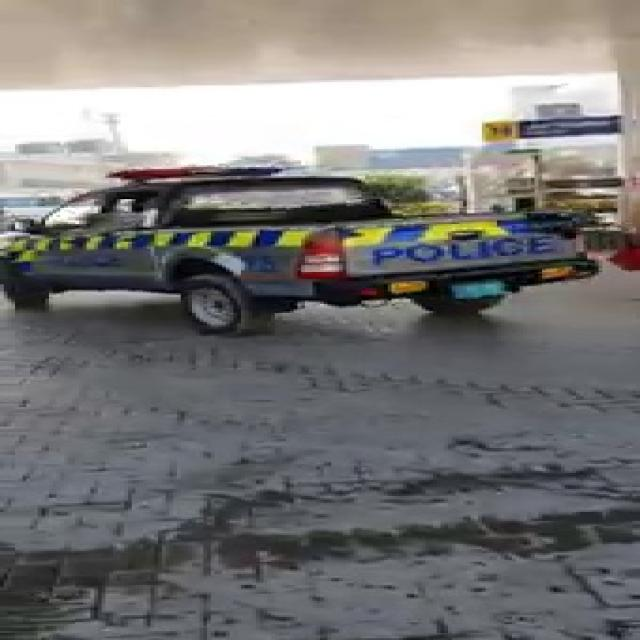police: (26, 154, 640, 321)
